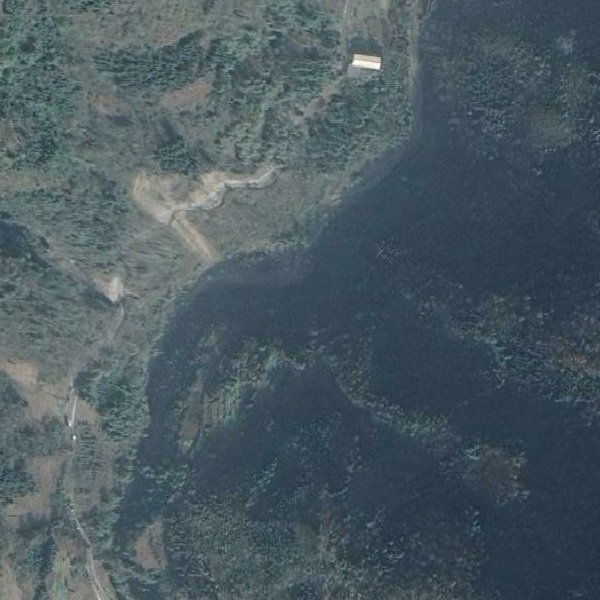slope: (131, 155, 287, 263), (83, 270, 139, 306)
